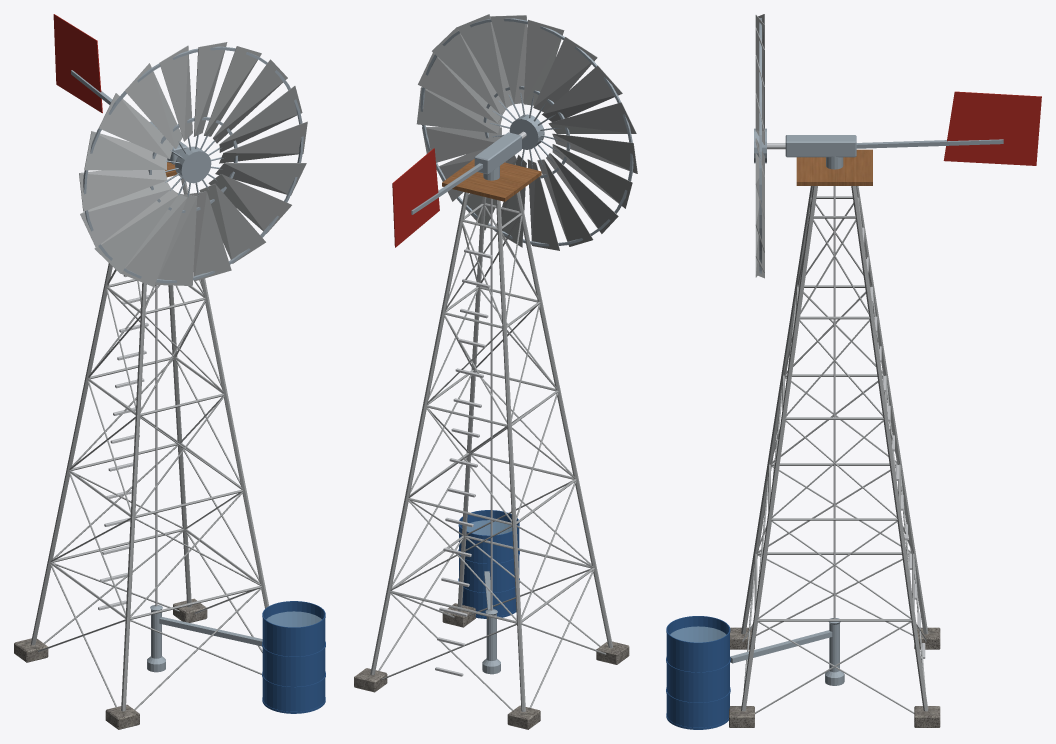
File: cata_vento.glb
The picture shows the model from 3 angles, left to right: view 1: azimuth 30°, elevation 25°; view 2: azimuth 150°, elevation 25°; view 3: azimuth 270°, elevation 25°; orthographic projection. The views are drawn at different scales.
Visible parts, largest first — view 1: cata_vento_cabeca_galvanizado, cata_vento_galvanizado, cata_vento_tambor_azul, cata_vento_cabeca_aco_pintado, cata_vento_cabeca_tinta_vermelha, cata_vento_aco, cata_vento_concreto, cata_vento_aco_pintado, cata_vento_agua; view 2: cata_vento_cabeca_galvanizado, cata_vento_galvanizado, cata_vento_cabeca_aco_pintado, cata_vento_tambor_azul, cata_vento_aco, cata_vento_cabeca_tinta_vermelha, cata_vento_concreto, cata_vento_madeira, cata_vento_aco_pintado, cata_vento_agua; view 3: cata_vento_galvanizado, cata_vento_tambor_azul, cata_vento_cabeca_tinta_vermelha, cata_vento_cabeca_aco_pintado, cata_vento_madeira, cata_vento_cabeca_galvanizado, cata_vento_aco, cata_vento_concreto, cata_vento_aco_pintado, cata_vento_agua.
Part boxes in pixels (x1,y1,x2,y2): cata_vento_cabeca_galvanizado: [79, 42, 307, 286]; cata_vento_galvanizado: [31, 177, 268, 711]; cata_vento_tambor_azul: [262, 601, 325, 713]; cata_vento_cabeca_aco_pintado: [71, 46, 303, 283]; cata_vento_cabeca_tinta_vermelha: [53, 14, 102, 113]; cata_vento_aco: [98, 275, 157, 610]; cata_vento_concreto: [14, 598, 207, 729]; cata_vento_aco_pintado: [147, 605, 262, 672]; cata_vento_agua: [266, 611, 321, 627]; cata_vento_cabeca_galvanizado: [416, 14, 637, 250]; cata_vento_galvanizado: [370, 191, 612, 711]; cata_vento_cabeca_aco_pintado: [411, 18, 633, 246]; cata_vento_tambor_azul: [458, 510, 519, 618]; cata_vento_aco: [435, 198, 492, 676]; cata_vento_cabeca_tinta_vermelha: [392, 148, 439, 247]; cata_vento_concreto: [354, 603, 629, 729]; cata_vento_madeira: [442, 159, 541, 201]; cata_vento_aco_pintado: [482, 571, 500, 674]; cata_vento_agua: [466, 520, 512, 535]; cata_vento_galvanizado: [741, 186, 928, 713]; cata_vento_tambor_azul: [666, 616, 730, 729]; cata_vento_cabeca_tinta_vermelha: [943, 91, 1041, 165]; cata_vento_cabeca_aco_pintado: [754, 18, 1003, 273]; cata_vento_madeira: [796, 149, 872, 185]; cata_vento_cabeca_galvanizado: [755, 14, 764, 278]; cata_vento_aco: [833, 186, 925, 658]; cata_vento_concreto: [729, 627, 940, 727]; cata_vento_aco_pintado: [730, 618, 844, 685]; cata_vento_agua: [670, 626, 726, 642].
Size of the model in its own units: 2.4 by 6.65 by 3.45.
Materials: 8 (2 with a texture image).
